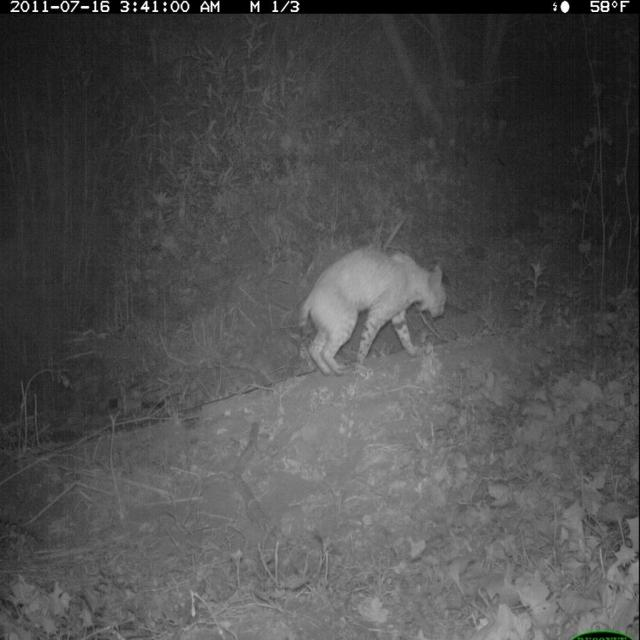bobcat: (292, 243, 454, 385)
